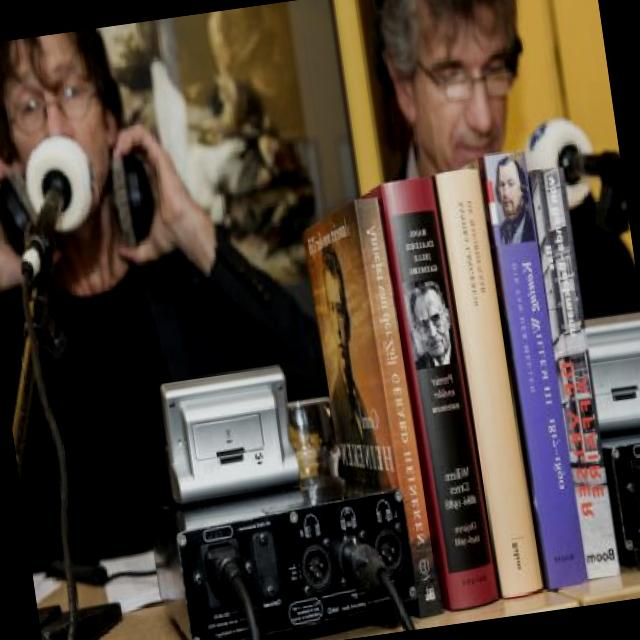Person: (0, 4, 347, 570), (365, 0, 640, 342), (306, 234, 392, 493), (488, 140, 545, 258), (404, 274, 462, 371)
